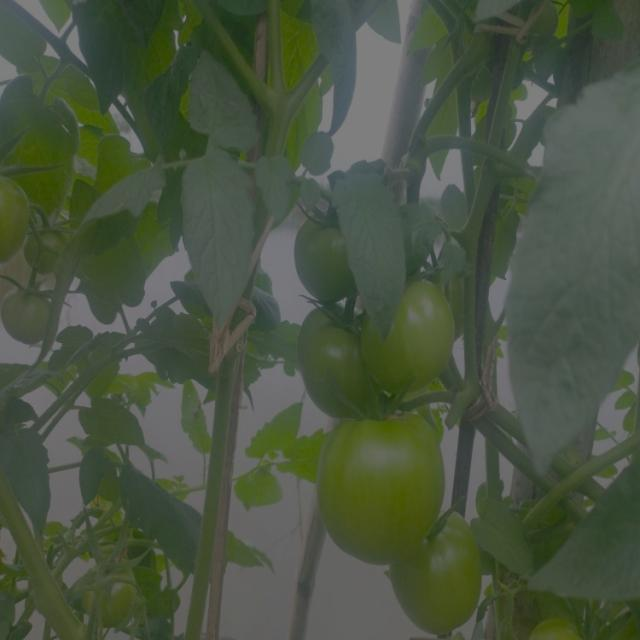tomato: (321, 400, 444, 555), (386, 513, 489, 638), (366, 278, 462, 393), (299, 299, 380, 410), (291, 206, 368, 300), (1, 279, 61, 349), (79, 565, 142, 627), (1, 175, 28, 268), (29, 220, 70, 270), (526, 613, 591, 640)
